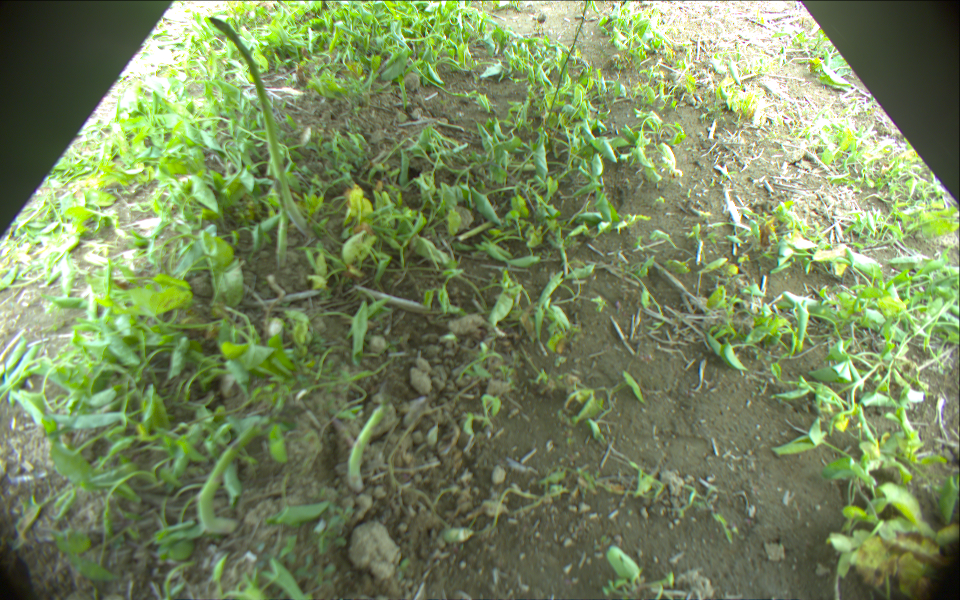aspa: (208, 16, 317, 237), (194, 420, 264, 531), (546, 1, 587, 132), (347, 405, 386, 489), (264, 175, 290, 265)
